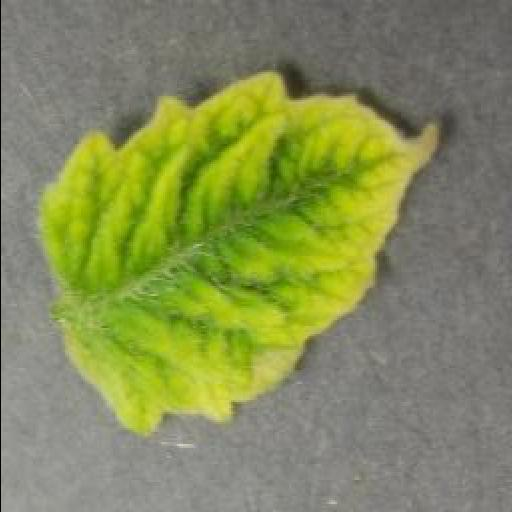disease_tomato: (40, 66, 446, 435)
